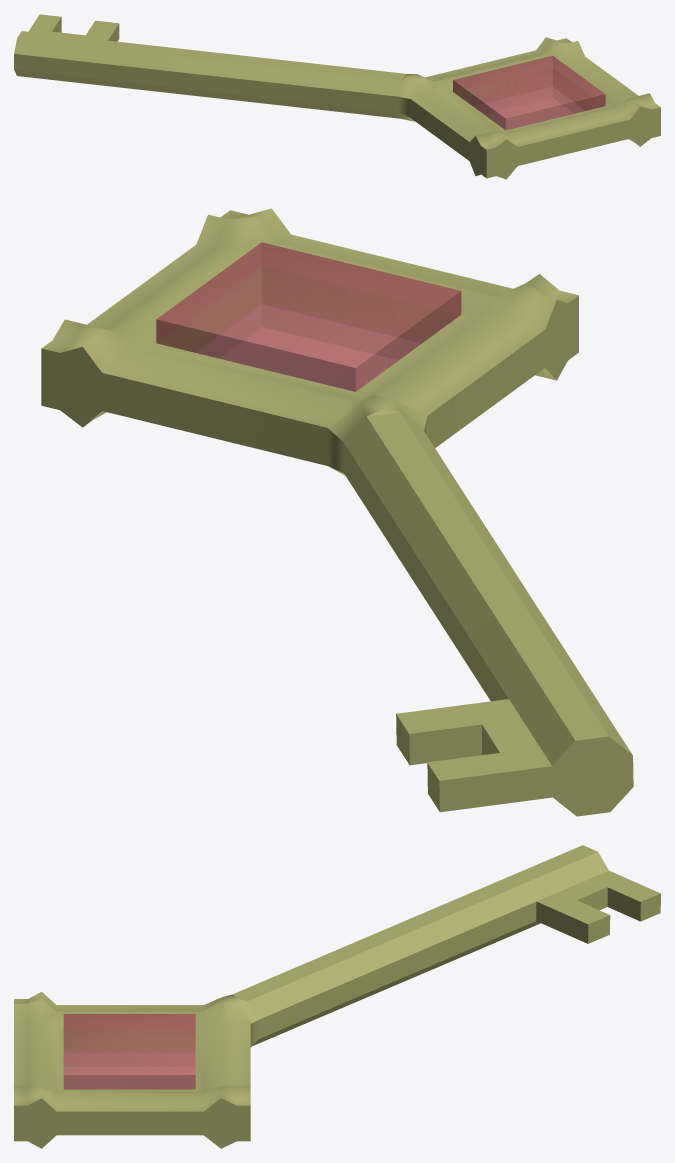
Rendered from pirate_key.fbx.
3 renders of one model, top to bottom at view 1: azimuth 30°, elevation 25°; view 2: azimuth 150°, elevation 25°; view 3: azimuth 270°, elevation 25°, orthographic. The views are drawn at different scales.
Visible parts, largest first — view 1: gold, ruby; view 2: gold, ruby; view 3: gold, ruby.
Boxes of the visible parts, bbox=[...] form: gold: bbox=[14, 14, 660, 179]; ruby: bbox=[453, 55, 605, 130]; gold: bbox=[41, 208, 633, 816]; ruby: bbox=[156, 242, 461, 391]; gold: bbox=[14, 845, 660, 1148]; ruby: bbox=[63, 1014, 195, 1089].
Size of the model in its own units: 4.44 by 0.7068 by 4.69.
